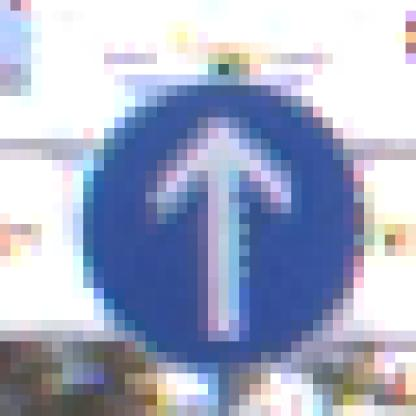AheadOnly: (64, 65, 355, 364)
